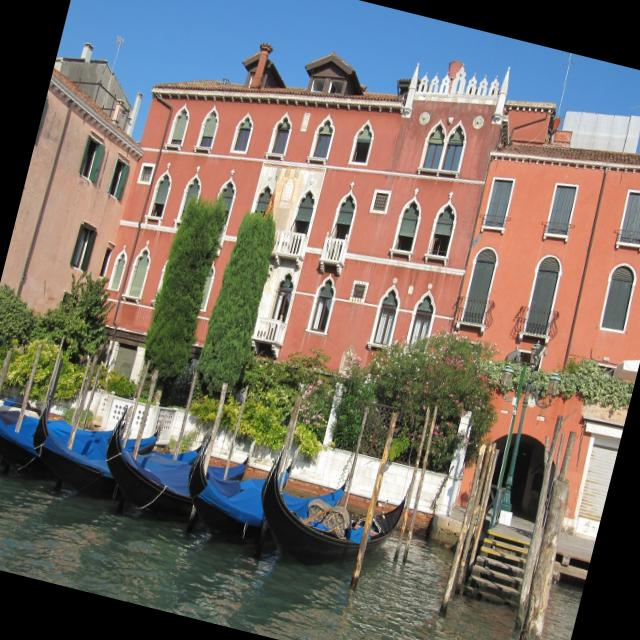boat: (235, 420, 434, 596), (9, 365, 228, 521), (171, 414, 366, 566), (93, 382, 270, 540)
